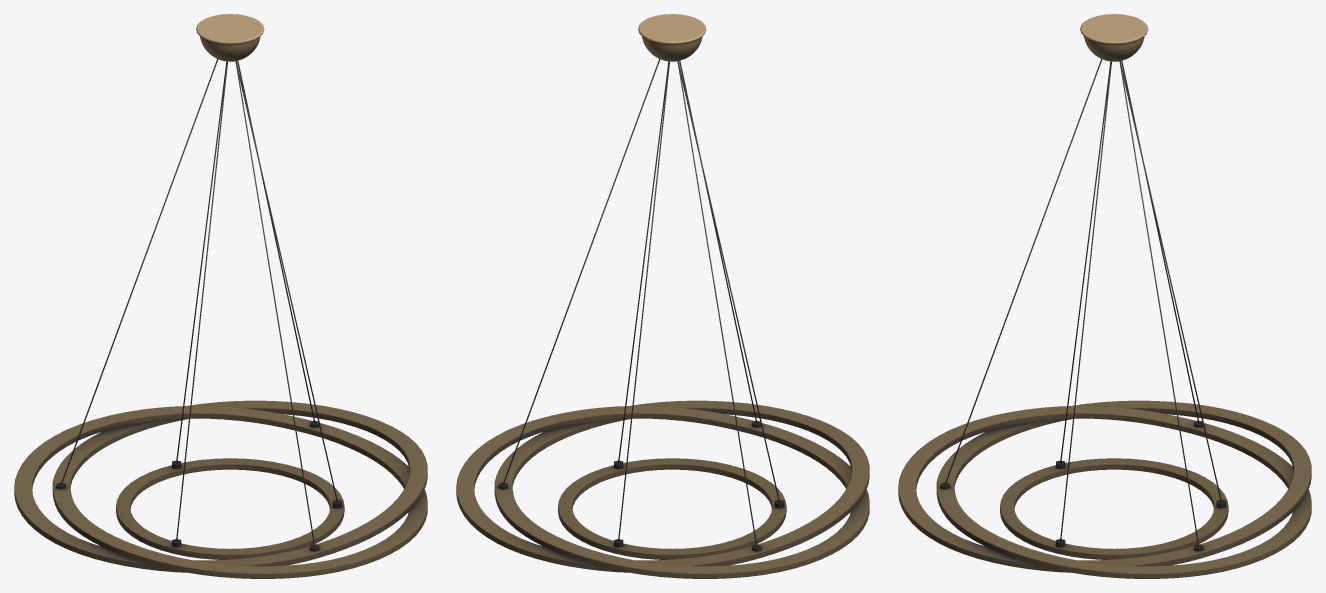
Rendered from chandelier.glb.
3 views of the same model, side by side, from view 1: azimuth 30°, elevation 25°; view 2: azimuth 150°, elevation 25°; view 3: azimuth 270°, elevation 25° (orthographic).
Visible parts, largest first — view 1: hei; view 2: hei; view 3: hei.
Boxes of the visible parts, left/top/right/bottom form: hei: left=14, top=14, right=427, bottom=578; hei: left=456, top=14, right=869, bottom=578; hei: left=898, top=14, right=1311, bottom=578.
Bounding box in the file's own units: 0.0235 × 0.0298 × 0.023.
1 material, 1 textured.
